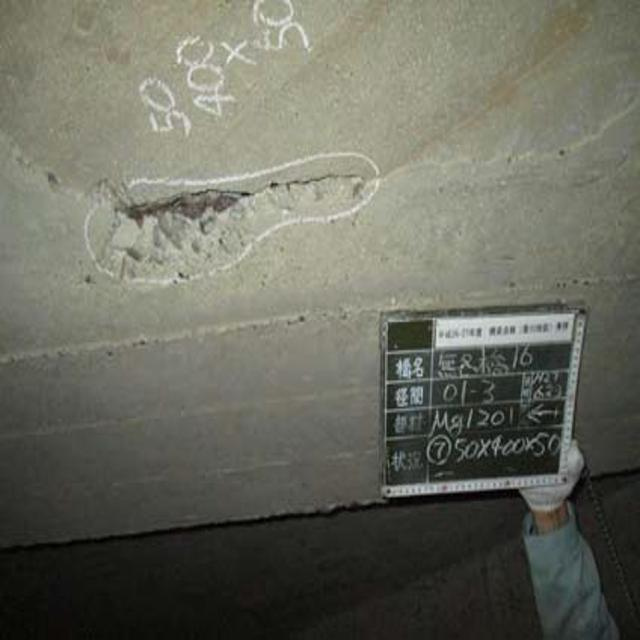spalling: (77, 160, 413, 281)
